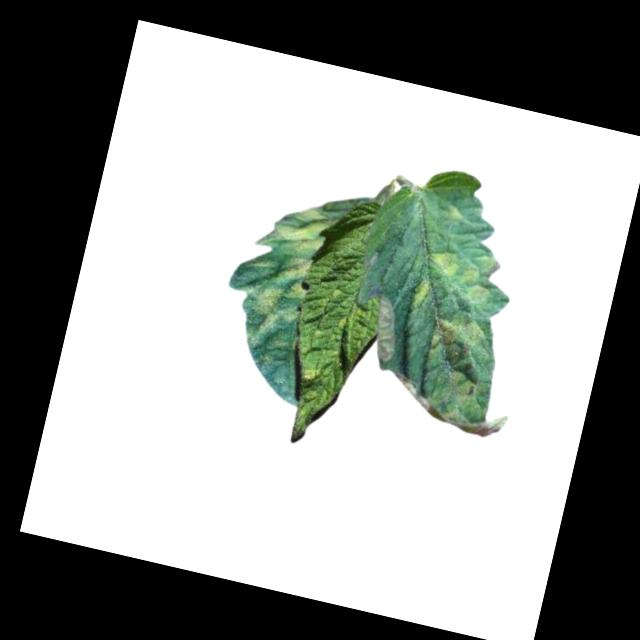Leaf_Mold: (388, 240, 521, 421), (234, 194, 332, 356), (298, 364, 329, 393)
